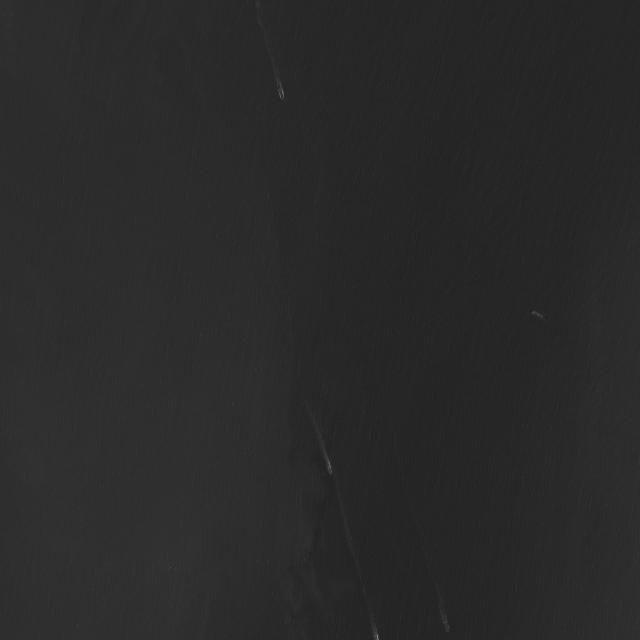ship: (531, 310, 546, 320), (442, 617, 450, 633), (277, 84, 285, 100), (327, 466, 332, 475), (328, 464, 330, 468), (376, 636, 378, 639)
